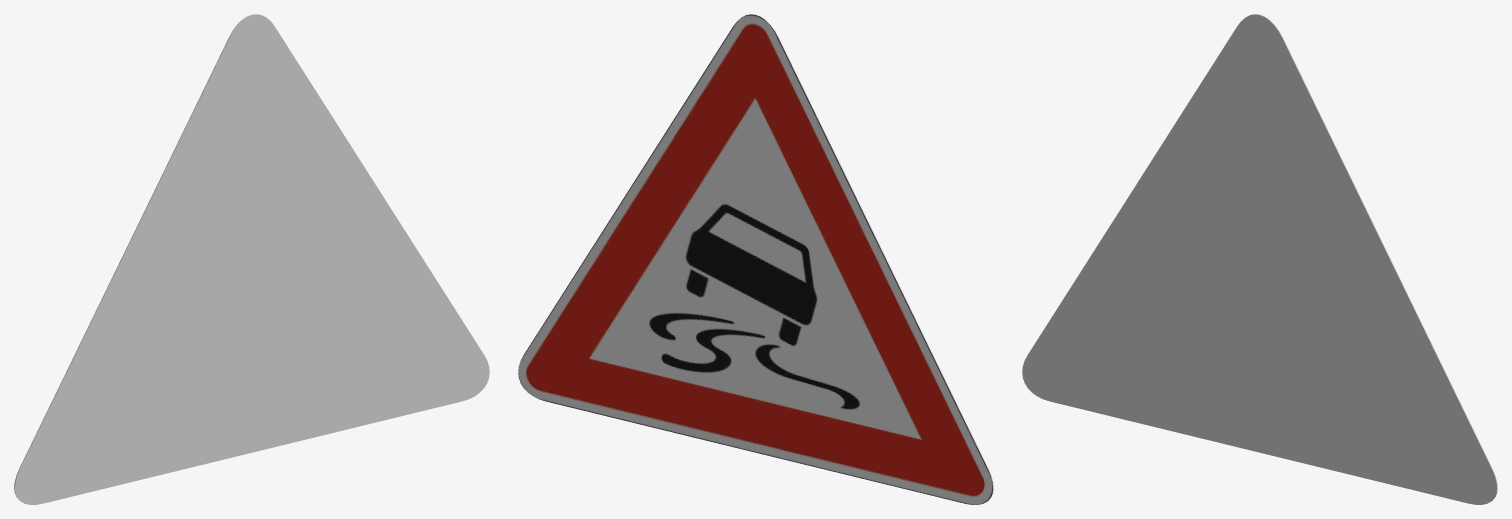
3 views of the same model, side by side, from view 1: azimuth 30°, elevation 25°; view 2: azimuth 150°, elevation 25°; view 3: azimuth 330°, elevation 25° (orthographic).
Parts seen in each view (by area): view 1: Plane; view 2: Plane; view 3: Plane.
Boxes of the visible parts, x1,y1,x2,y2 form: Plane: [14, 14, 489, 504]; Plane: [518, 14, 993, 504]; Plane: [1022, 14, 1497, 504].
Bounding box in the file's own units: 0.8393 × 0.7391 × 0.002.
Materials: 2 (1 with a texture image).
